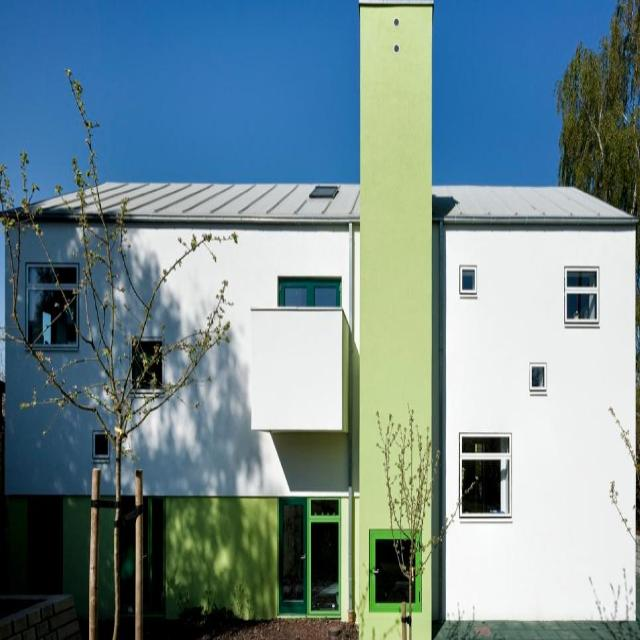door: (278, 494, 340, 618)
plant: (555, 0, 639, 222)
wall: (0, 0, 639, 639)
windows: (22, 266, 80, 346), (456, 434, 512, 516), (369, 532, 422, 605), (279, 278, 341, 308), (563, 268, 597, 318), (132, 342, 164, 387), (462, 270, 477, 288), (98, 432, 112, 450), (532, 369, 544, 389)
